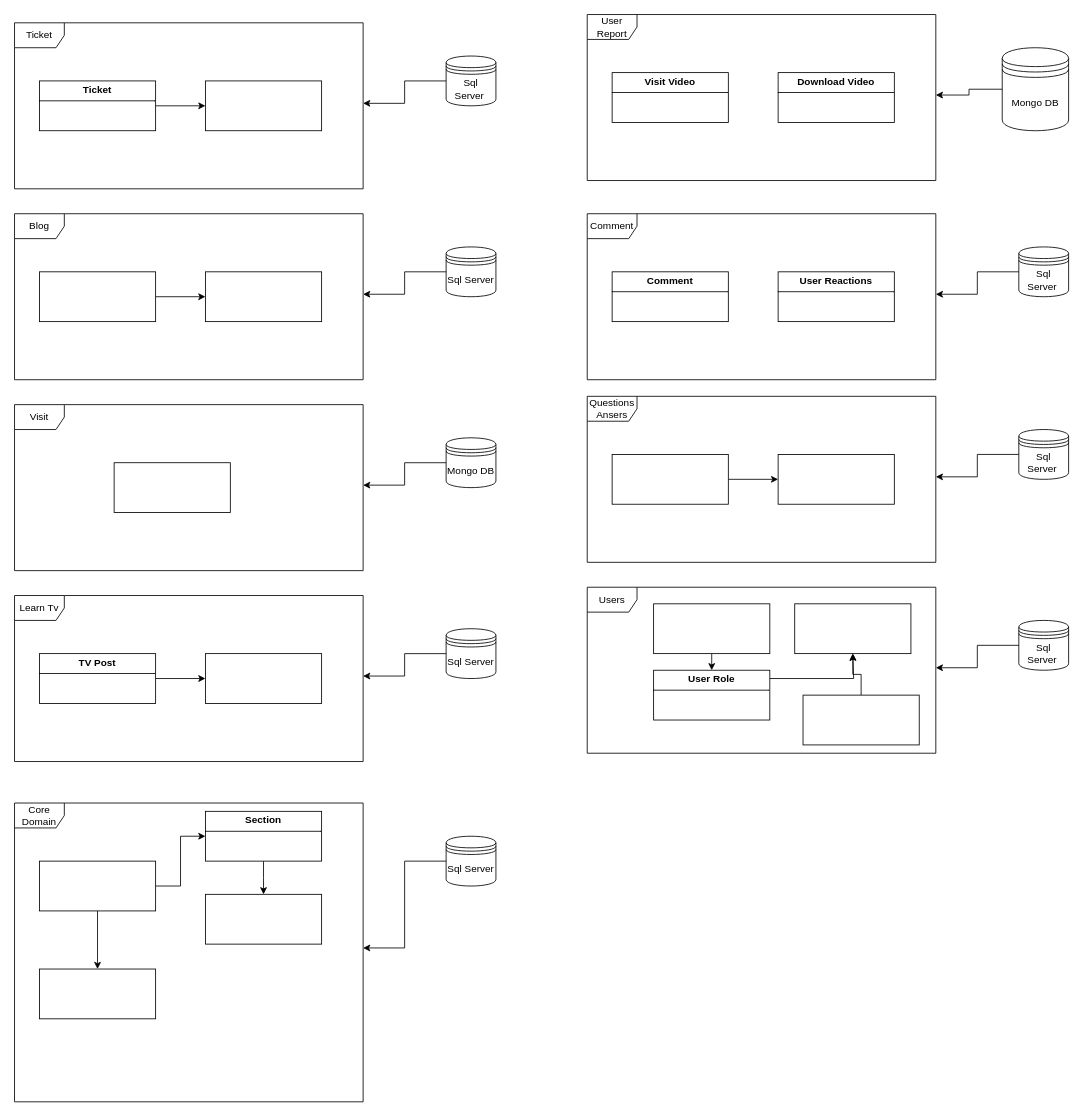
The diagram is 1083 pixels wide and 1116 high, and some of its shapes have lost their labels. The centre of each missing label's shape, as x and y in pixels:
"Ansers" belongs at pixel 835 479.
"Category" belongs at pixel 263 296.
"Course" belongs at pixel 97 885.
"Episode" belongs at pixel 263 918.
"Post" belongs at pixel 97 296.
"Questions" belongs at pixel 669 479.
"Role" belongs at pixel 852 628.
"RolePermissions" belongs at pixel 860 719.
"Teacher" belongs at pixel 97 993.
"Ticket Message" belongs at pixel 263 105.
"TV Category" belongs at pixel 263 678.
"User" belongs at pixel 711 628.
"User Visit" belongs at pixel 171 487.
